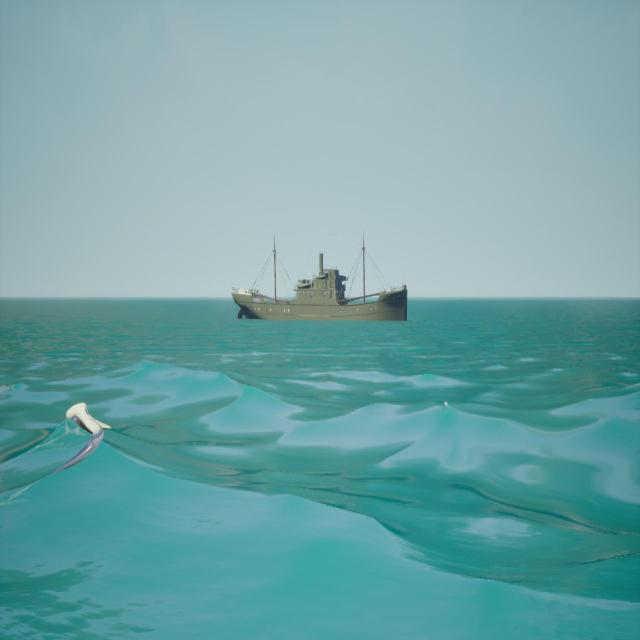fishing ship: (232, 231, 409, 323)
